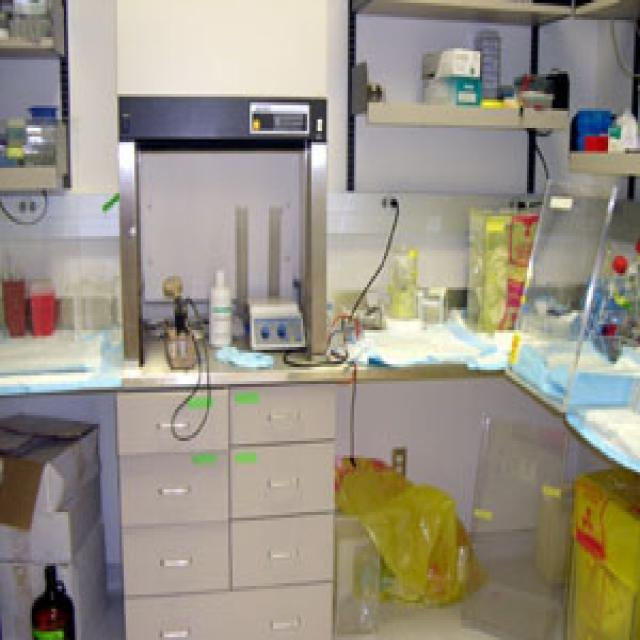2036: (0, 307, 638, 472)
bottle crop: (207, 267, 230, 344)
bottle occluded: (30, 563, 73, 634)
box contants: (465, 205, 508, 327)
boxs: (0, 407, 107, 637), (420, 46, 478, 105)
drawers crop: (113, 381, 333, 634)
floor -X: (2, 521, 638, 637)
machine crop: (117, 94, 324, 361), (241, 293, 303, 344)
shelves crop: (346, 0, 574, 191)
wall clock: (572, 0, 638, 612)
